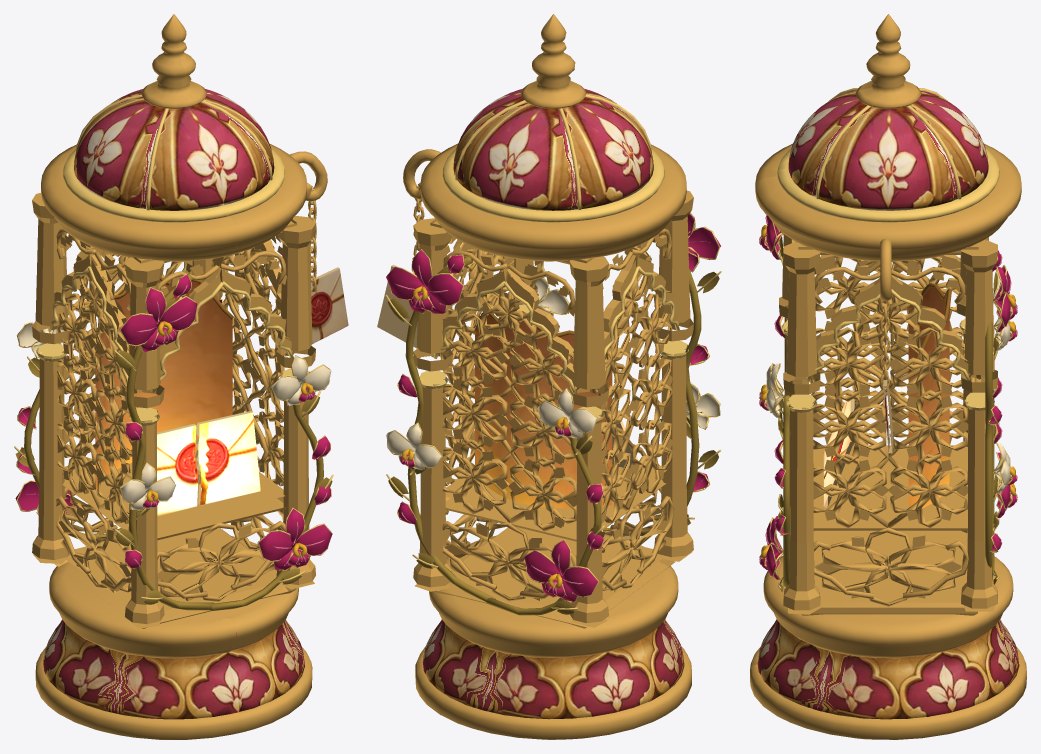
Rendered from relic-orchid.glb.
3 views of the same model, side by side, from view 1: azimuth 30°, elevation 25°; view 2: azimuth 150°, elevation 25°; view 3: azimuth 270°, elevation 25° (orthographic).
Visible parts, largest first — view 1: Turned brass, Four brass pillars, Openwork lotus screens, Cloisonne dome, Painted orchid foot, Pavilion plinths, Concave gilt reflector, Cloisonne orchid blossoms, Pierced screen palmettes, Broken-seal letter, right half, Cusped arch moldings, Climbing orchid stem (+16 smaller); view 2: Turned brass, Openwork lotus screens, Four brass pillars, Cloisonne dome, Painted orchid foot, Pavilion plinths, Concave gilt reflector, Pierced screen palmettes, Cloisonne orchid blossoms, Climbing orchid stem, Cusped arch moldings, Cloisonne orchid blossoms.004 (+15 smaller); view 3: Turned brass, Openwork lotus screens, Four brass pillars, Cloisonne dome, Painted orchid foot, Pavilion plinths, Pierced screen palmettes, Climbing orchid stem, Turned brass.001, Concave gilt reflector, Cusped arch moldings, Arch screen tracery (+16 smaller).
Boxes of the visible parts, bbox=[...] form: Turned brass: bbox=[35, 14, 312, 739]; Four brass pillars: bbox=[32, 193, 315, 628]; Openwork lotus screens: bbox=[56, 247, 288, 601]; Cloisonne dome: bbox=[74, 89, 274, 210]; Painted orchid foot: bbox=[43, 617, 304, 719]; Pavilion plinths: bbox=[54, 219, 297, 628]; Concave gilt reflector: bbox=[95, 280, 232, 489]; Cloisonne orchid blossoms: bbox=[15, 288, 332, 570]; Pierced screen palmettes: bbox=[57, 246, 284, 601]; Broken-seal letter, right half: bbox=[198, 412, 260, 505]; Cusped arch moldings: bbox=[51, 239, 294, 390]; Climbing orchid stem: bbox=[24, 273, 323, 610]; Turned brass: bbox=[415, 14, 691, 739]; Openwork lotus screens: bbox=[439, 247, 672, 601]; Four brass pillars: bbox=[413, 190, 693, 627]; Cloisonne dome: bbox=[453, 89, 653, 210]; Painted orchid foot: bbox=[422, 619, 684, 719]; Pavilion plinths: bbox=[430, 219, 675, 628]; Concave gilt reflector: bbox=[475, 315, 612, 508]; Pierced screen palmettes: bbox=[443, 245, 672, 600]; Cloisonne orchid blossoms: bbox=[386, 212, 720, 601]; Climbing orchid stem: bbox=[405, 256, 701, 615]; Cusped arch moldings: bbox=[434, 239, 678, 390]; Cloisonne orchid blossoms.004: bbox=[386, 277, 720, 470]; Turned brass: bbox=[750, 14, 1026, 739]; Openwork lotus screens: bbox=[809, 256, 981, 606]; Four brass pillars: bbox=[779, 234, 997, 614]; Cloisonne dome: bbox=[788, 91, 988, 210]; Painted orchid foot: bbox=[757, 619, 1019, 719]; Pavilion plinths: bbox=[798, 247, 978, 615]; Pierced screen palmettes: bbox=[813, 260, 978, 598]; Climbing orchid stem: bbox=[783, 270, 994, 586]; Turned brass.001: bbox=[777, 149, 999, 222]; Concave gilt reflector: bbox=[908, 287, 949, 508]; Cusped arch moldings: bbox=[792, 239, 984, 378]; Arch screen tracery: bbox=[846, 261, 975, 528].
Size of the model in its own units: 0.2482 by 0.539 by 0.2022.
Materials: 14 (5 with a texture image).
